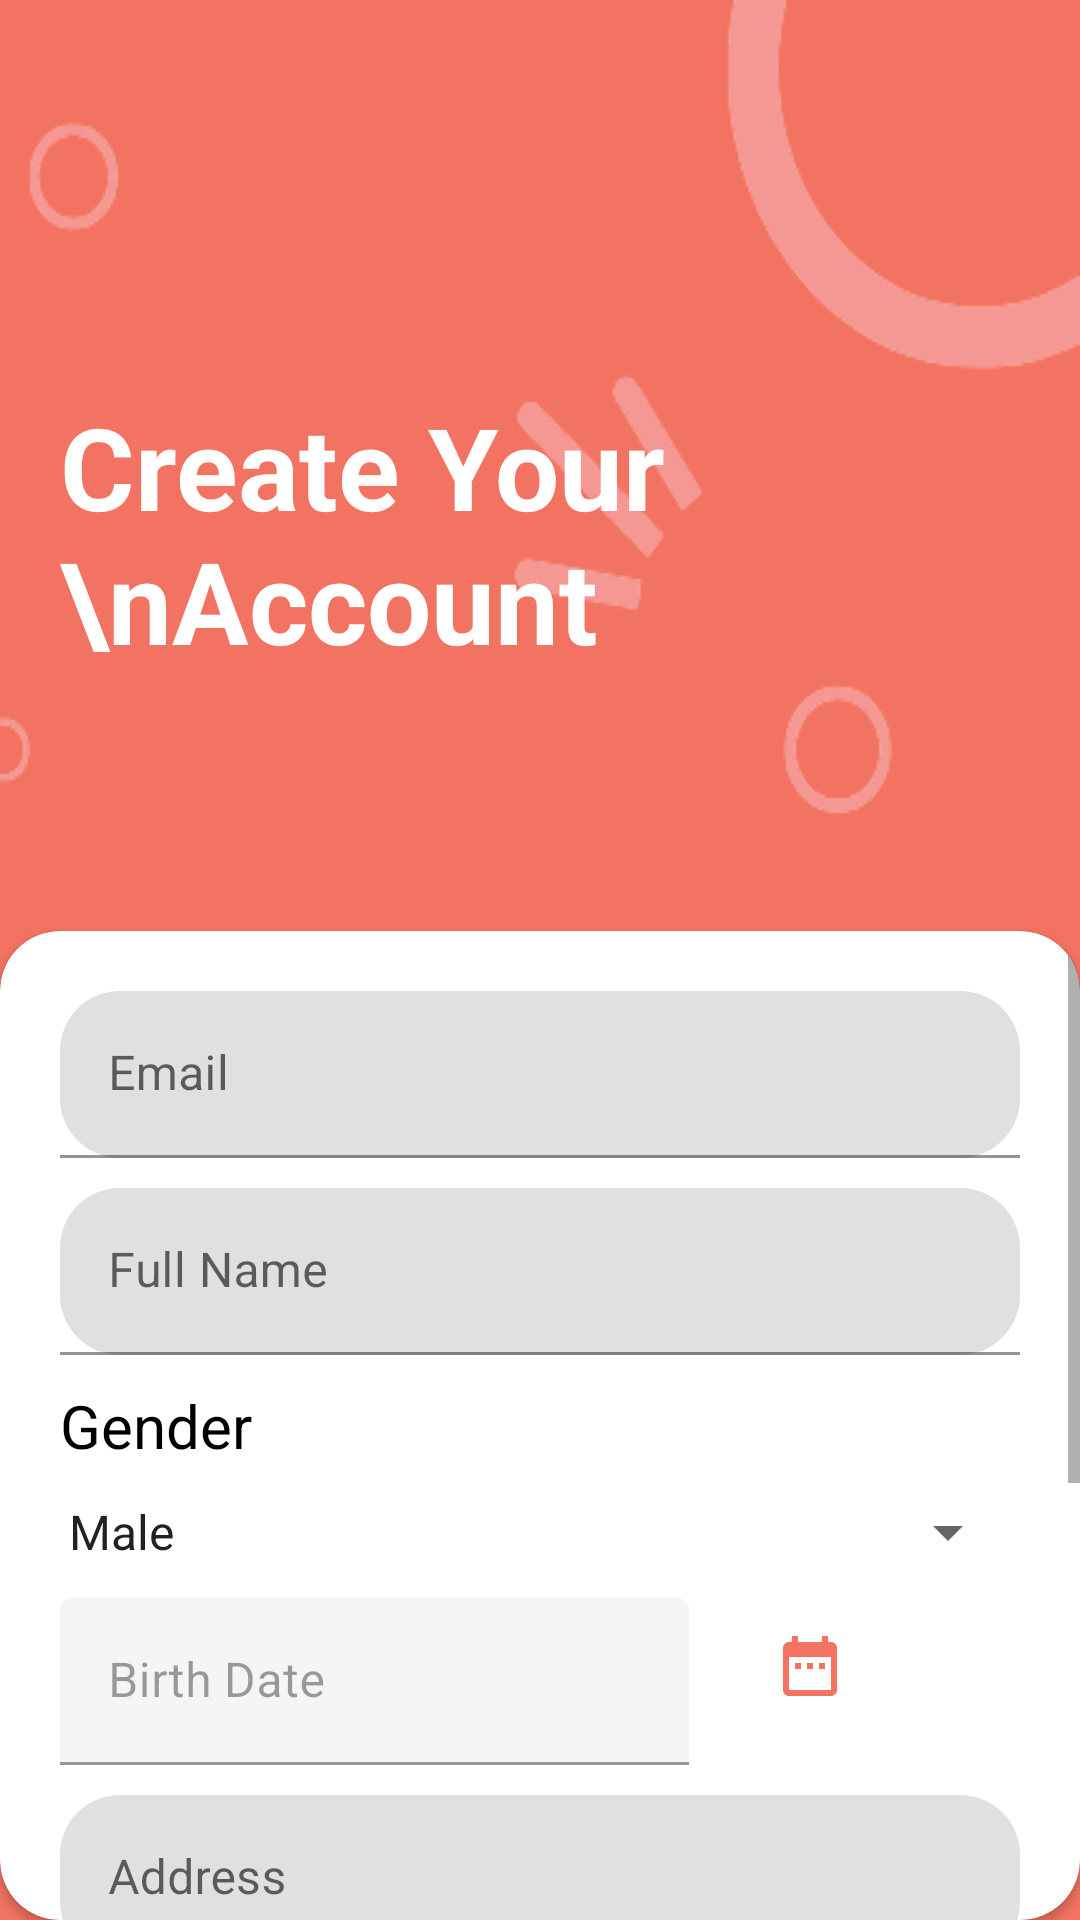

Screen size 1080*1920. Icon name, then its box in pixels as BBox(x1, y1, x2, y2):
date range: BBox(783, 1636, 837, 1696)
